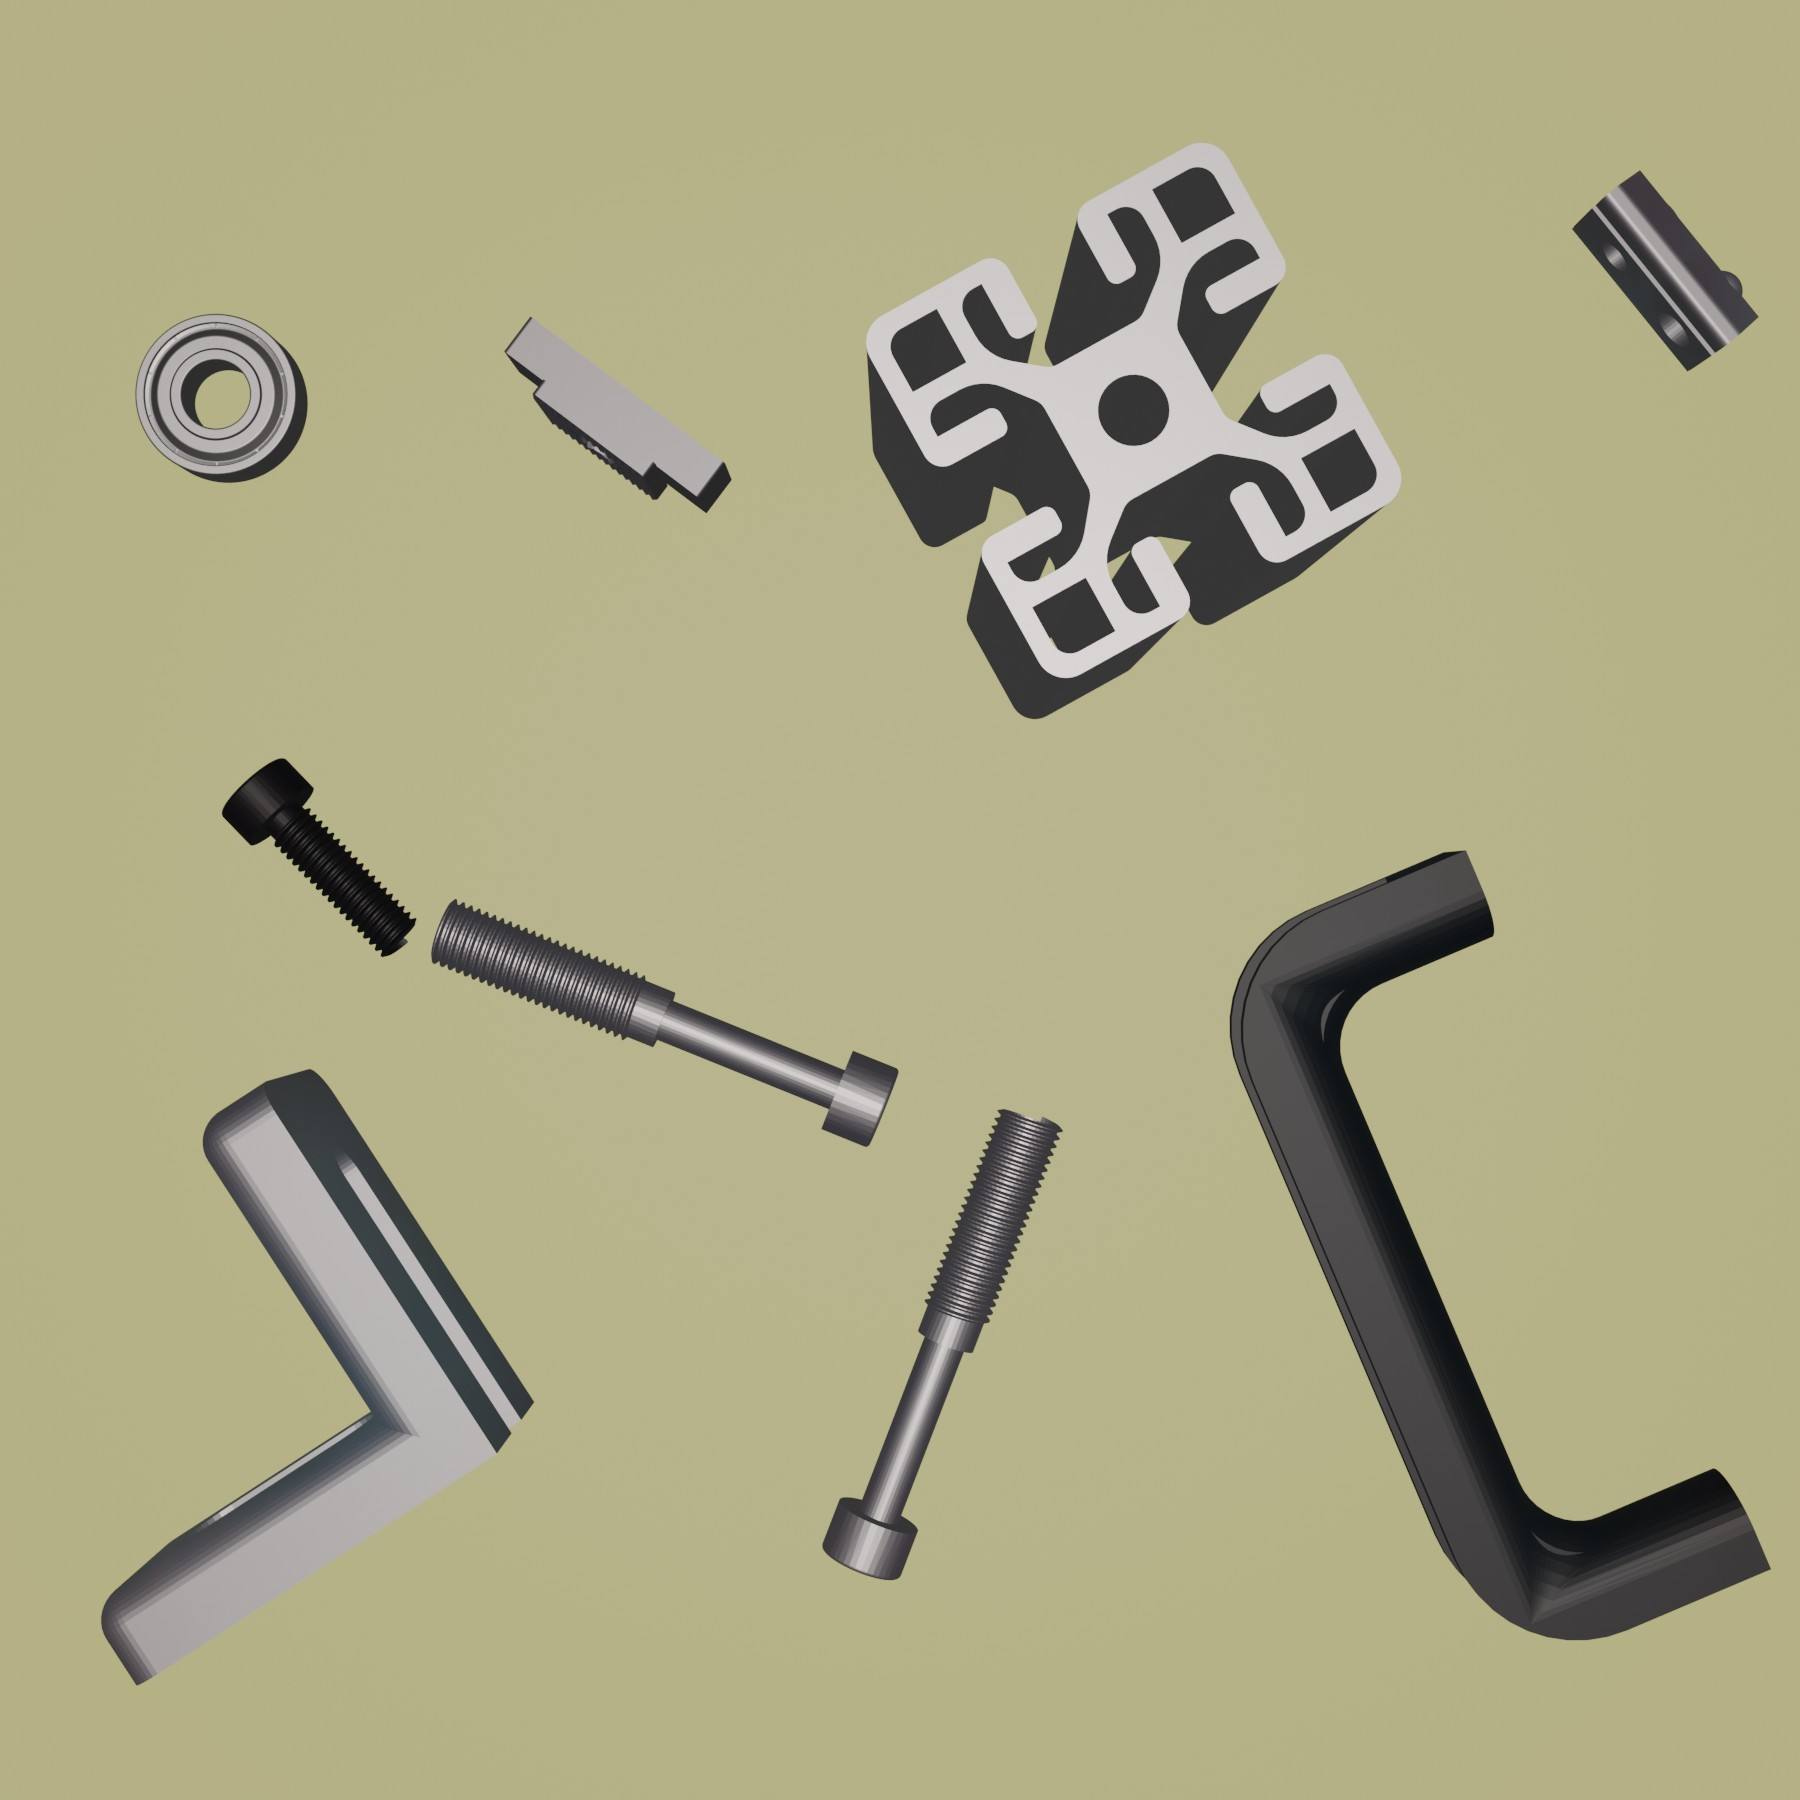Aluminium Extension: (864, 142, 1404, 720)
Ball Bearing: (130, 312, 308, 485)
Multiwinkel: (101, 1065, 539, 1688)
Pull Handle: (1226, 846, 1774, 1642)
Shoulder Socket Head Cap Screw: (427, 895, 902, 1151), (819, 1104, 1065, 1582)
Socket Head Cap Screw: (219, 755, 419, 961)
T Nut Square: (499, 312, 735, 519)
T Spring Nut: (1568, 170, 1760, 373)
